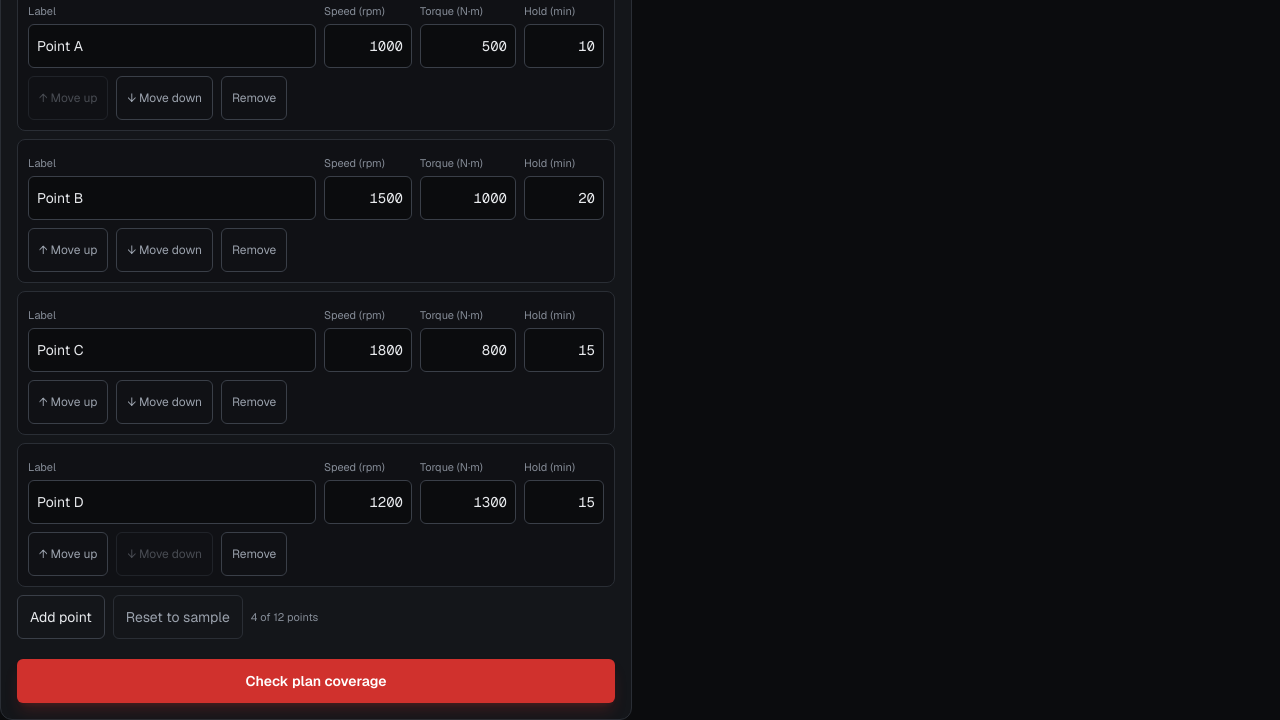
it: Engine Test-Plan Workbench: results › discloses repeated coordinates without merging them
(page scrolled)
Click the button "Check plan coverage" at (316, 681), box x1=17 y1=659 x2=615 y2=703
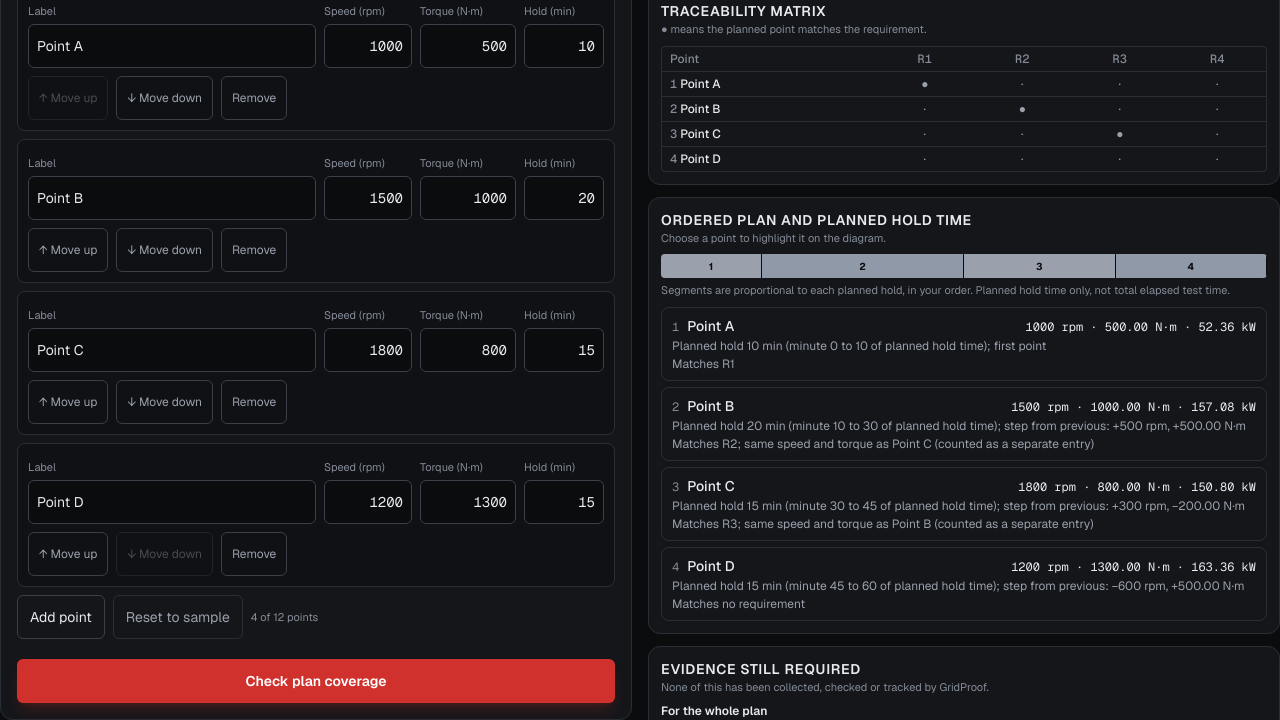
Expected: the element with test id "timeline" shows "same speed and torque as Point C (counted as a separate entry)", x1=661 y1=386 x2=1267 y2=460
